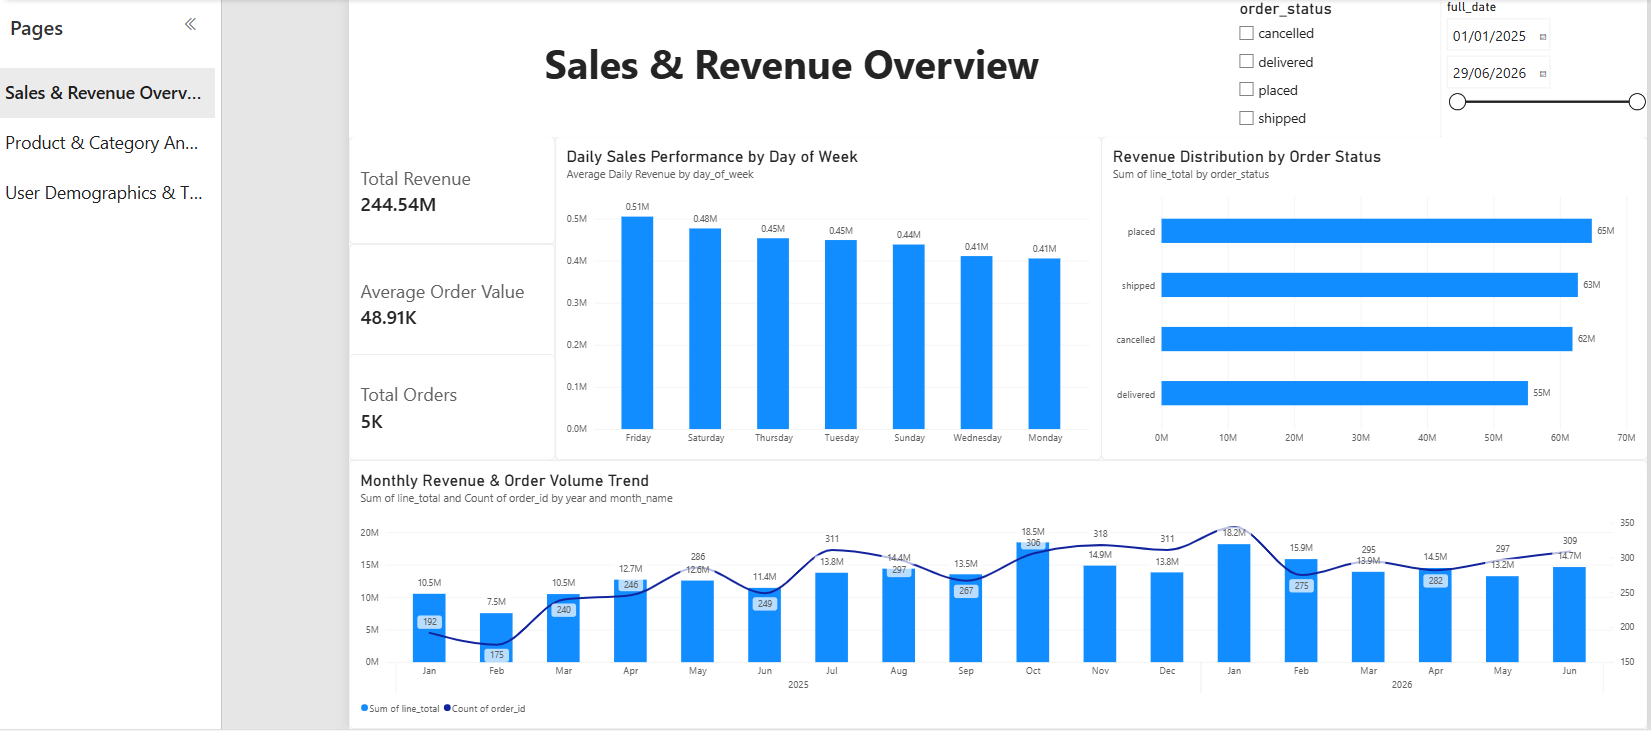

The dashboard page shown, as its layout file describes it:
{"tool":"powerbi","page":{"name":"Sales & Revenue Overview","canvas":[1920,1080],"ordinal":0},"visuals":[{"type":"lineStackedColumnComboChart","title":"Monthly Revenue & Order Volume Trend","fields":{"Category":["dim_date.year","dim_date.month_name"],"Y":["Sum(fact_order_line.line_total)"],"Y2":["Count(fact_order_line.order_id)"]},"box":[0,682.4,1920.9,397.9],"z":0},{"type":"clusteredBarChart","title":"Revenue Distribution by Order Status","fields":{"Category":["fact_order_line.order_status"],"Y":["Sum(fact_order_line.line_total)"]},"box":[1113.2,203.6,807.8,478],"z":1000},{"type":"clusteredColumnChart","title":"Daily Sales Performance by Day of Week","fields":{"Category":["dim_date.day_of_week"],"Y":["fact_order_line.Average Daily Revenue"]},"box":[305.4,203.6,807.8,478],"z":2000},{"type":"cardVisual","fields":{"Data":["fact_order_line.Total Revenue"]},"box":[0,203.6,305.4,159.3],"z":3000},{"type":"cardVisual","fields":{"Data":["fact_order_line.Average Order Value"]},"box":[0,363,305.4,177],"z":4000},{"type":"cardVisual","fields":{"Data":["fact_order_line.Total Orders"]},"box":[0,524.5,305.4,157.1],"z":5000},{"type":"slicer","fields":{"Values":["dim_date.full_date"]},"box":[1615.6,0,305.4,203.6],"z":6000},{"type":"slicer","fields":{"Values":["fact_order_line.order_status"]},"box":[1310.2,0,305,204],"z":7000},{"type":"textbox","box":[0,0,1310.2,203.6],"z":8000}]}

Visuals, with their boxes on the page's 1920x1080 design canvas (x1, y1, x2, y2). These are canvas units, not pixel positions in the 1651x731 screenshot, which may show the page scaled, cropped or inside an application window:
"Monthly Revenue & Order Volume Trend" lineStackedColumnComboChart: <box>0,682,1921,1080</box>
"Revenue Distribution by Order Status" clusteredBarChart: <box>1113,204,1921,682</box>
"Daily Sales Performance by Day of Week" clusteredColumnChart: <box>305,204,1113,682</box>
cardVisual - fact_order_line.Total Revenue: <box>0,204,305,363</box>
cardVisual - fact_order_line.Average Order Value: <box>0,363,305,540</box>
cardVisual - fact_order_line.Total Orders: <box>0,524,305,682</box>
slicer - dim_date.full_date: <box>1616,0,1921,204</box>
slicer - fact_order_line.order_status: <box>1310,0,1615,204</box>
textbox: <box>0,0,1310,204</box>
